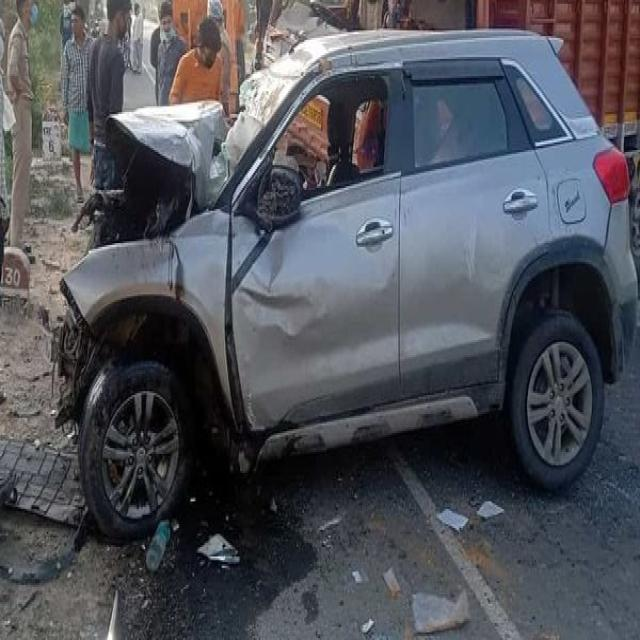accident: (55, 28, 640, 547)
